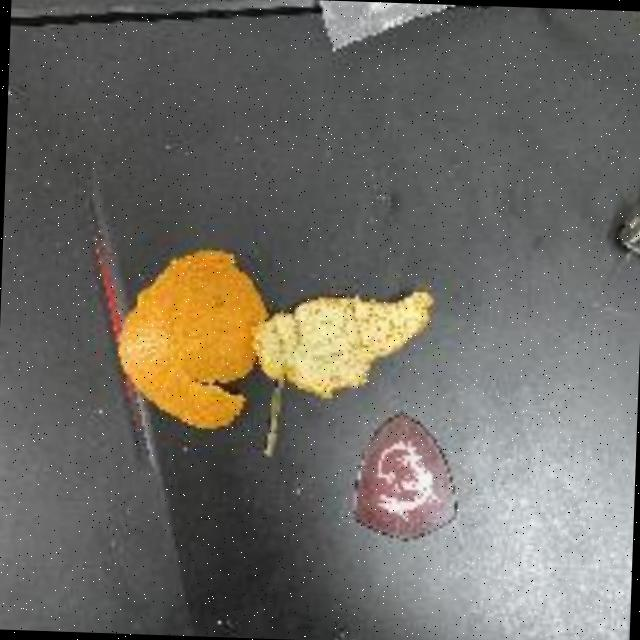orange-peel: (111, 240, 271, 432)
